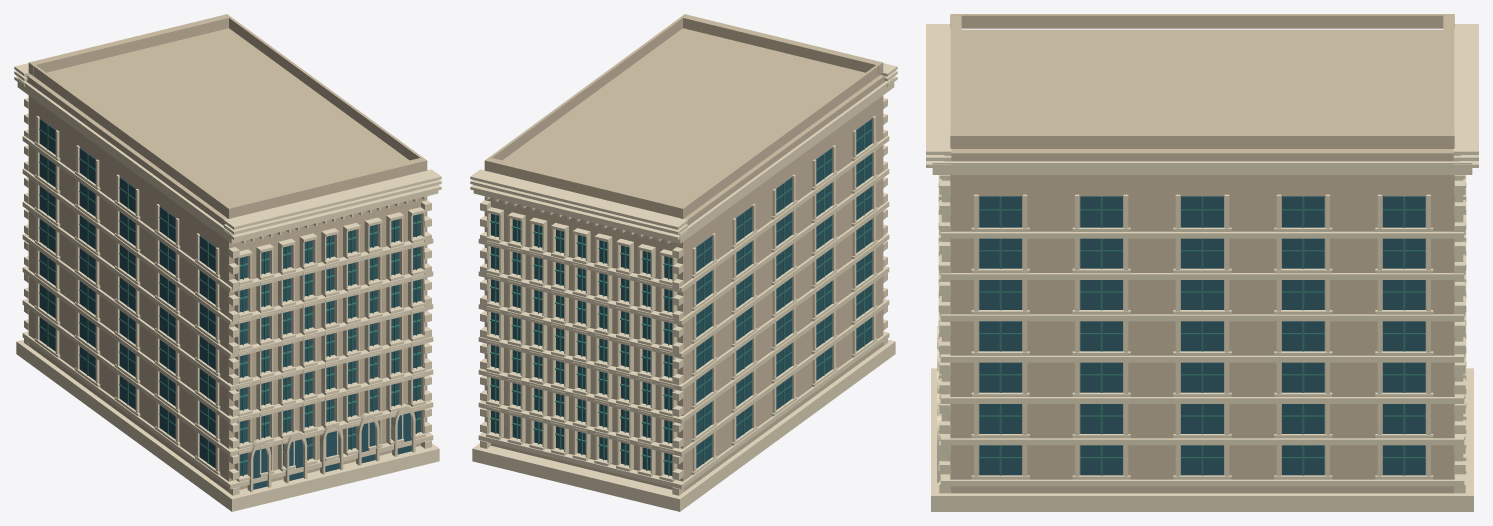
The model's file is yangtze-insurance.glb.
3 views of the same model, side by side, from view 1: azimuth 30°, elevation 25°; view 2: azimuth 150°, elevation 25°; view 3: azimuth 270°, elevation 25° (orthographic). The views are drawn at different scales.
Parts seen in each view (by area): view 1: yangtze-insurance; view 2: yangtze-insurance; view 3: yangtze-insurance.
Part boxes in pixels (x1=…): yangtze-insurance: x1=14, y1=14, x2=441, y2=511; yangtze-insurance: x1=470, y1=14, x2=897, y2=511; yangtze-insurance: x1=926, y1=14, x2=1478, y2=511.
Size of the model in its own units: 17.45 by 23.8 by 31.96.
